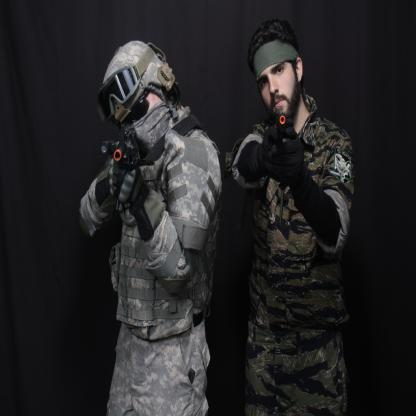Helmet: (91, 46, 183, 136)
